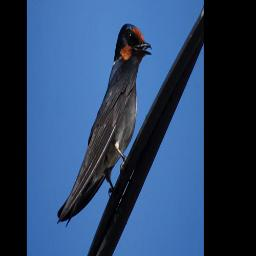Swallow: (56, 23, 152, 223)
